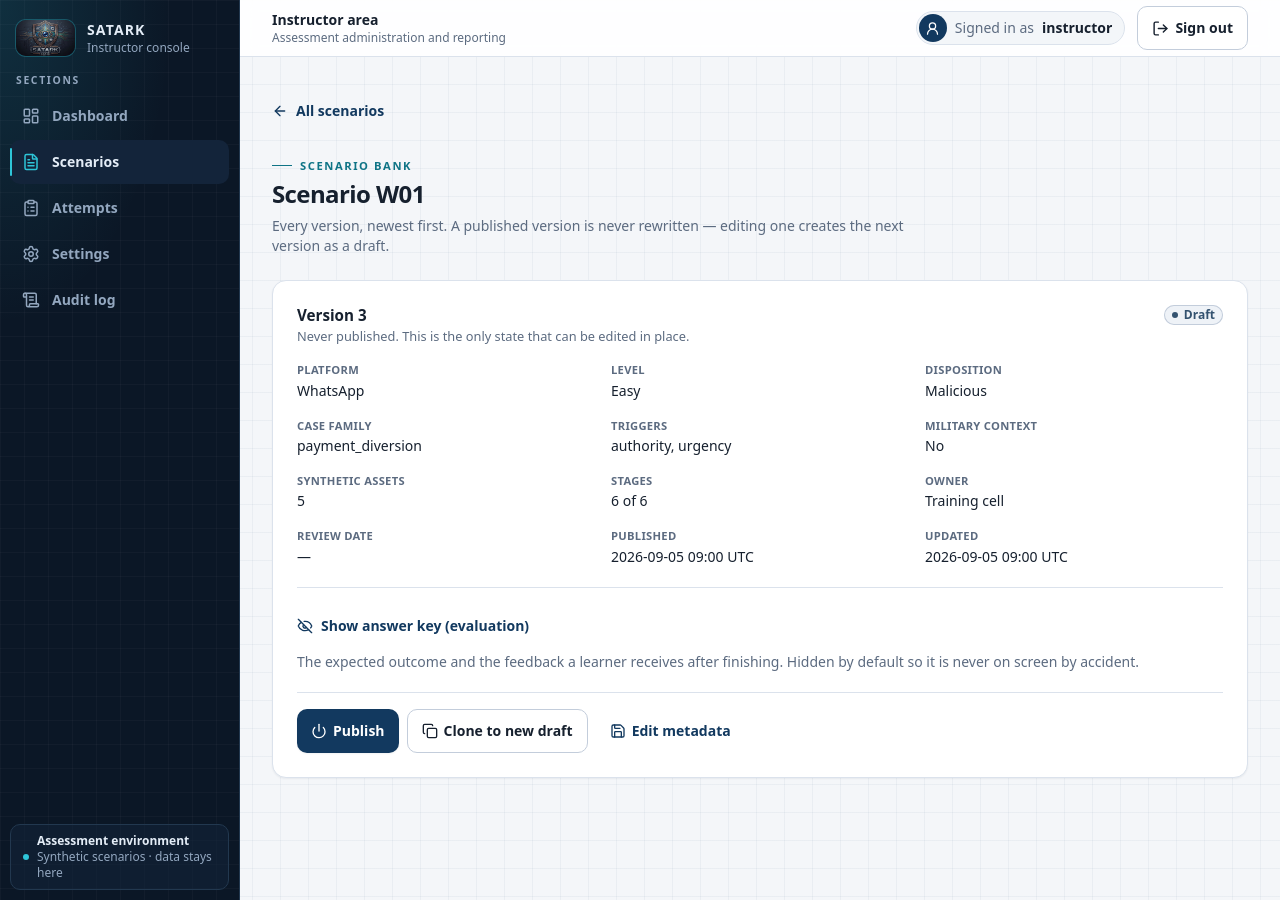
Test: the scenario manager › publishes only after a confirmation, through the existing endpoint
The width and height of the screenshot is (1280, 900).
Expected: the heading "Version 3" is shown, [297,305,367,325]
Click the button "Publish" at (348, 731), box [297,709,399,753]
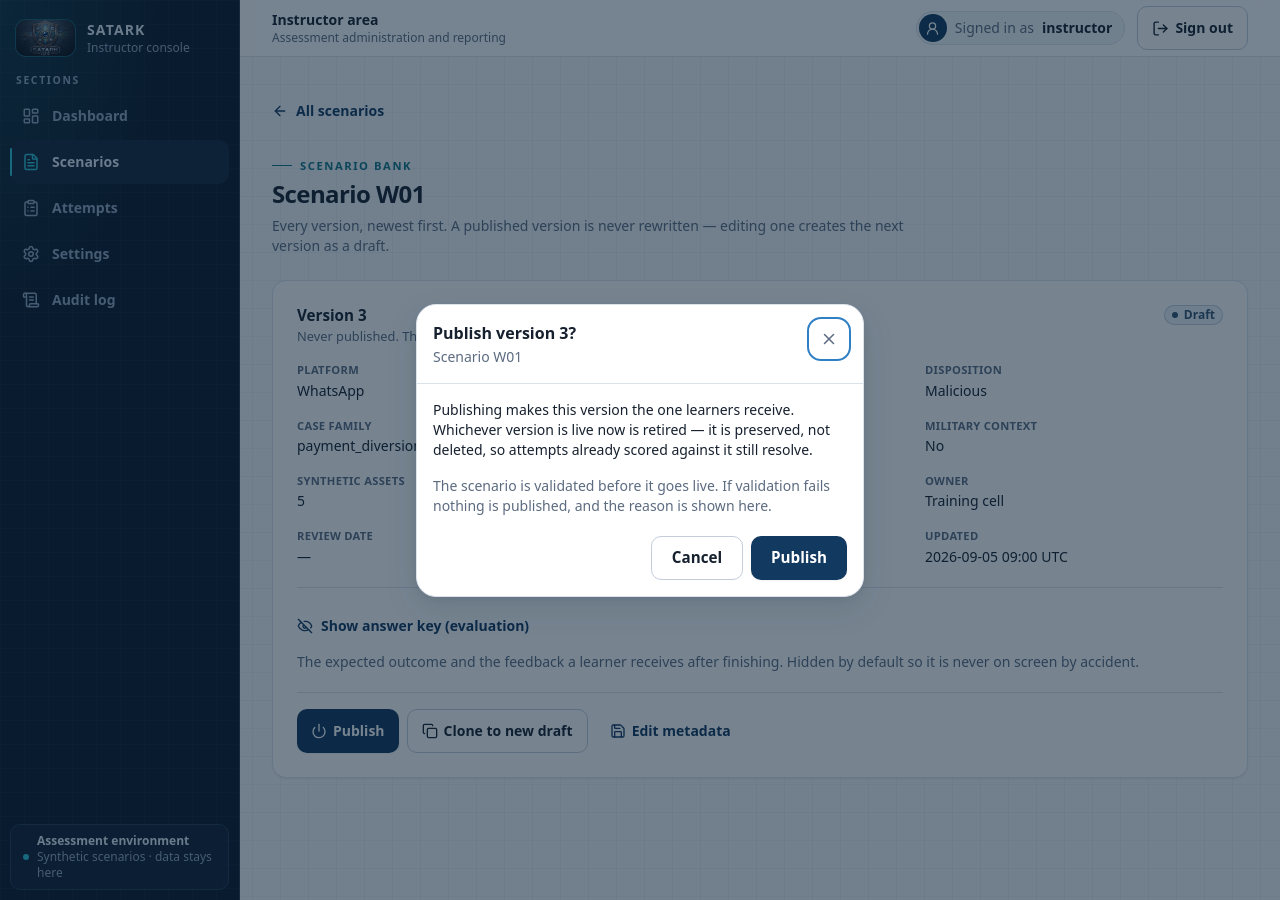
Expected: the text "whichever version is live now is retired" is shown, [433,400,830,458]
Click the button "Publish" at (799, 558), box [751,536,847,580]
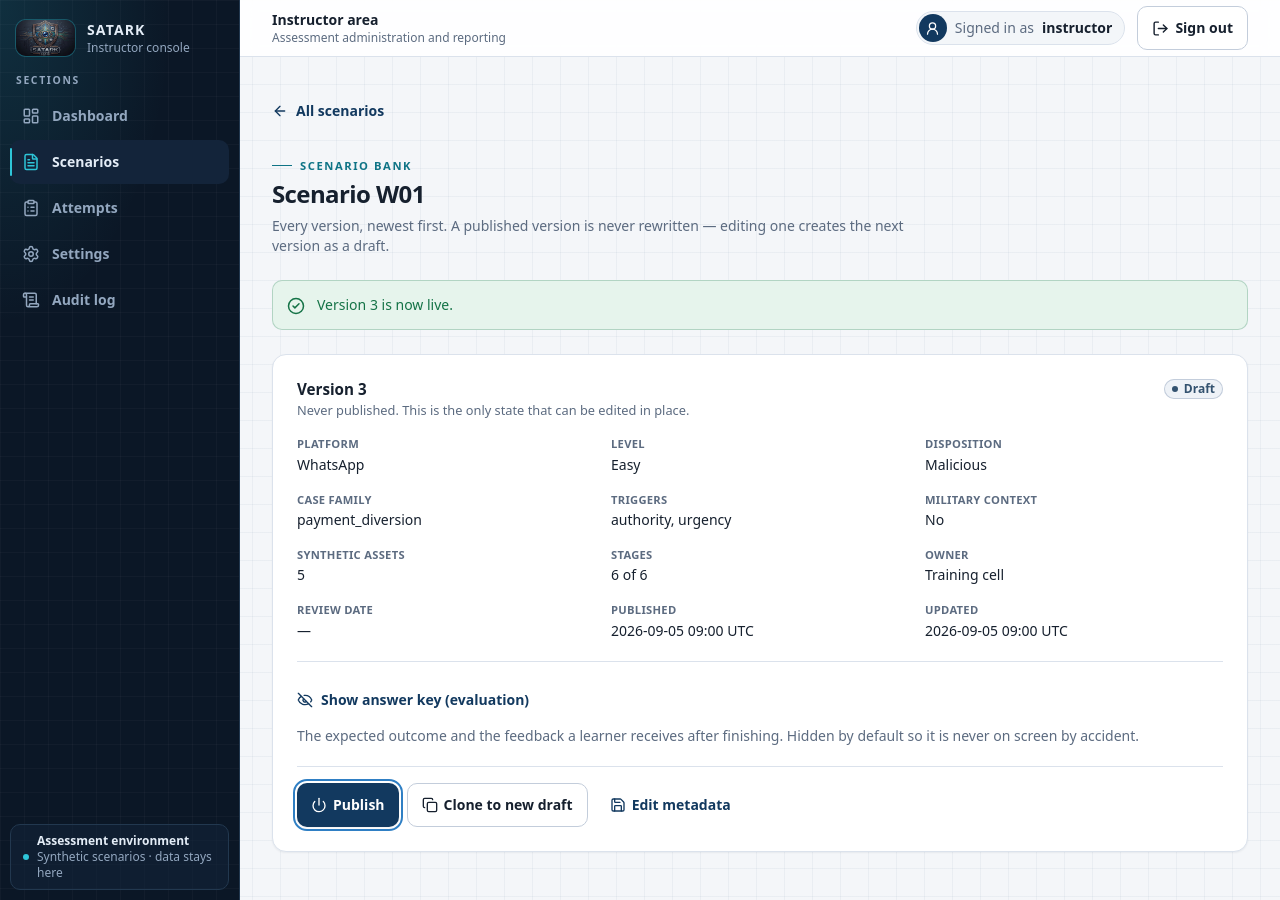
Expected: the text "Version 3 is now live." is shown, [317,295,453,315]
